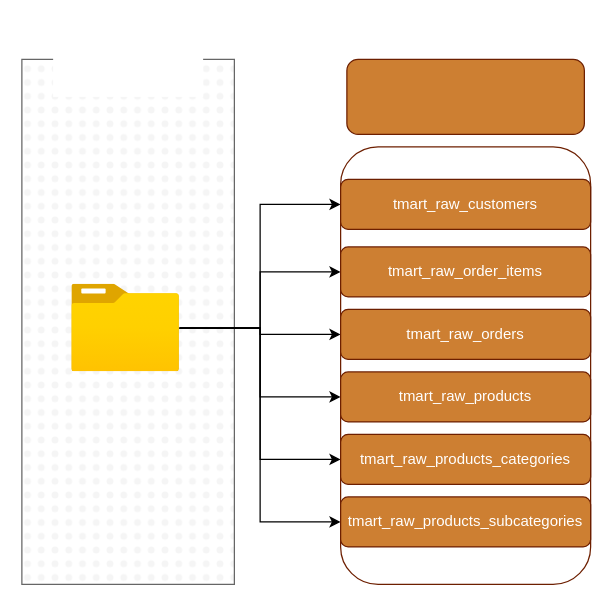
Some shapes in this 613 by 606 pixel diagram are drawn without their labels. Here are the shapes that lost their labels. From the top down, the box of each, then its label:
(52, 21, 202, 96): Source(s)
(346, 58, 584, 134): Staging Raw Layer
(71, 284, 179, 371): Tmart
